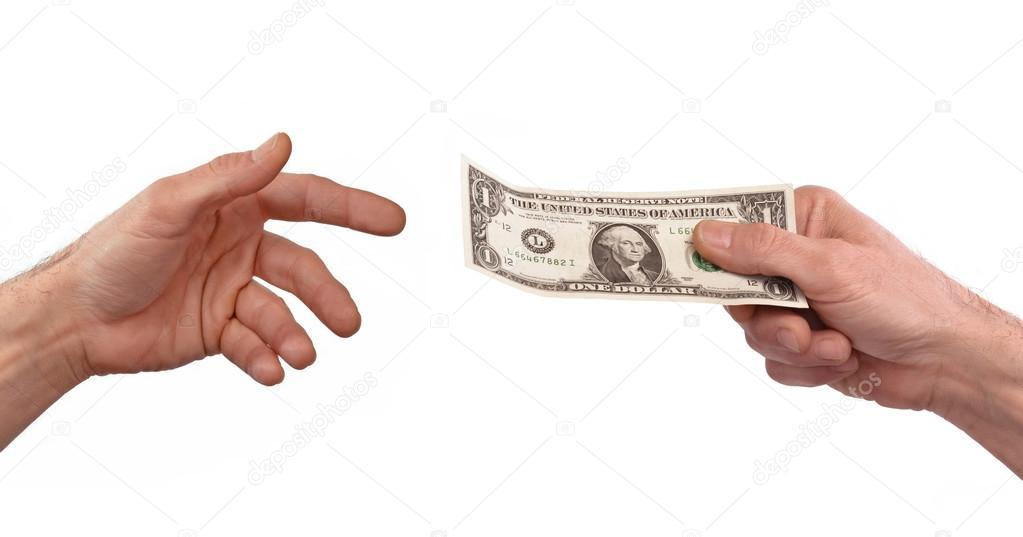billete: (458, 148, 815, 313)
